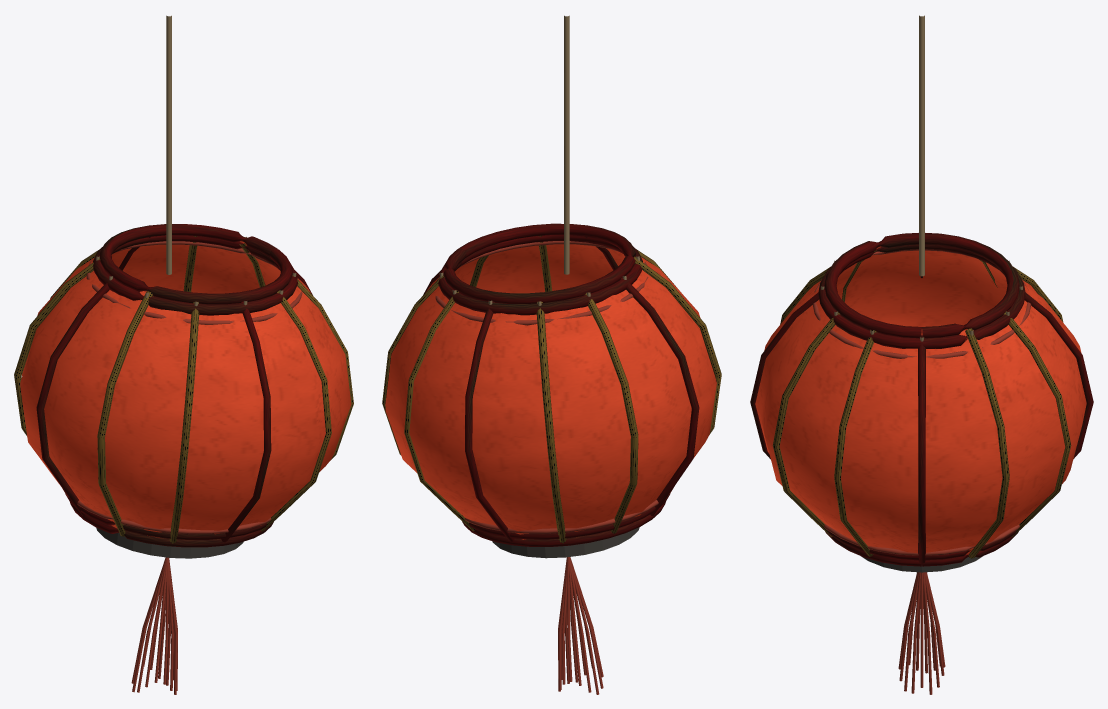
File: hanging_lantern.glb
3 renders of one model, left to right at view 1: azimuth 30°, elevation 25°; view 2: azimuth 150°, elevation 25°; view 3: azimuth 270°, elevation 25°, orthographic.
Visible parts, largest first — view 1: Body, Art_BurntLacquer_Body, Art_BambooRind_Body, Art_CinnabarBinding_Body, Art_FadedThread, Art_SootIron_Body; view 2: Body, Art_BurntLacquer_Body, Art_BambooRind_Body, Art_CinnabarBinding_Body, Art_FadedThread, Art_SootIron_Body; view 3: Body, Art_BurntLacquer_Body, Art_BambooRind_Body, Art_CinnabarBinding_Body, Art_FadedThread, Art_SootIron_Body.
Boxes of the visible parts, x1,y1,x2,y2 form: Body: (20, 241, 351, 537); Art_BurntLacquer_Body: (36, 224, 312, 547); Art_BambooRind_Body: (14, 236, 353, 543); Art_CinnabarBinding_Body: (62, 241, 302, 694); Art_FadedThread: (166, 15, 171, 274); Art_SootIron_Body: (96, 527, 243, 558); Body: (385, 244, 716, 539); Art_BurntLacquer_Body: (423, 223, 699, 546); Art_BambooRind_Body: (382, 235, 721, 543); Art_CinnabarBinding_Body: (434, 241, 674, 694); Art_FadedThread: (564, 15, 569, 274); Art_SootIron_Body: (492, 527, 639, 558); Body: (755, 246, 1086, 554); Art_BurntLacquer_Body: (750, 233, 1093, 566); Art_BambooRind_Body: (772, 250, 1071, 558); Art_CinnabarBinding_Body: (812, 249, 1031, 694); Art_FadedThread: (919, 15, 924, 276); Art_SootIron_Body: (861, 556, 982, 572).
Bounding box in the file's own units: 0.3692 × 0.8083 × 0.3713.
7 materials, 4 textured.
